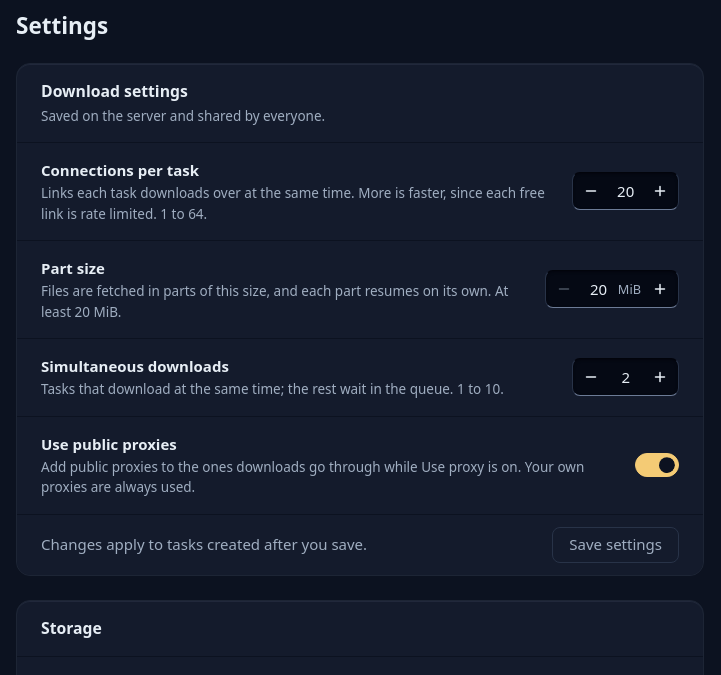
Test case: Settings › keeps an edit made while a save runs, and runs one save at a time
Click the switch named "Use public proxies" at (657, 465), box [635,453,679,477]
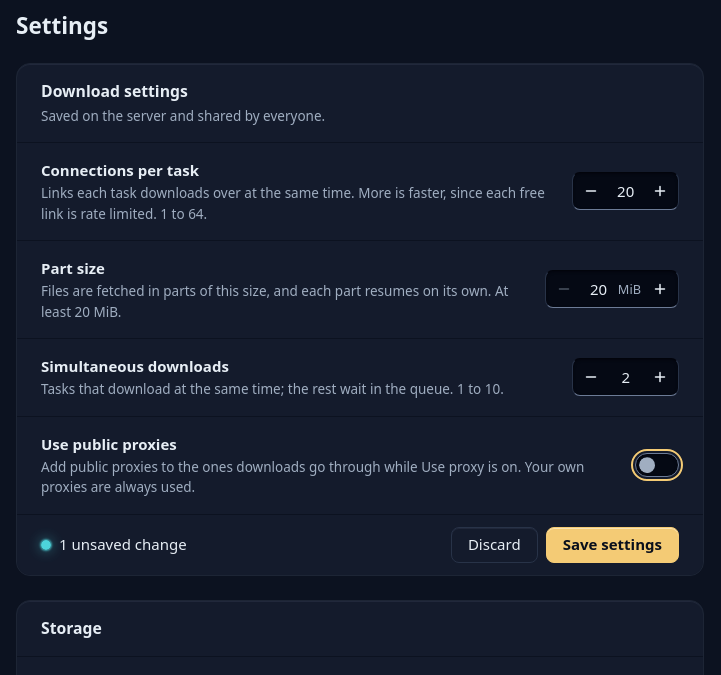
Click the button "Save settings" at (612, 545), box [546,527,679,563]
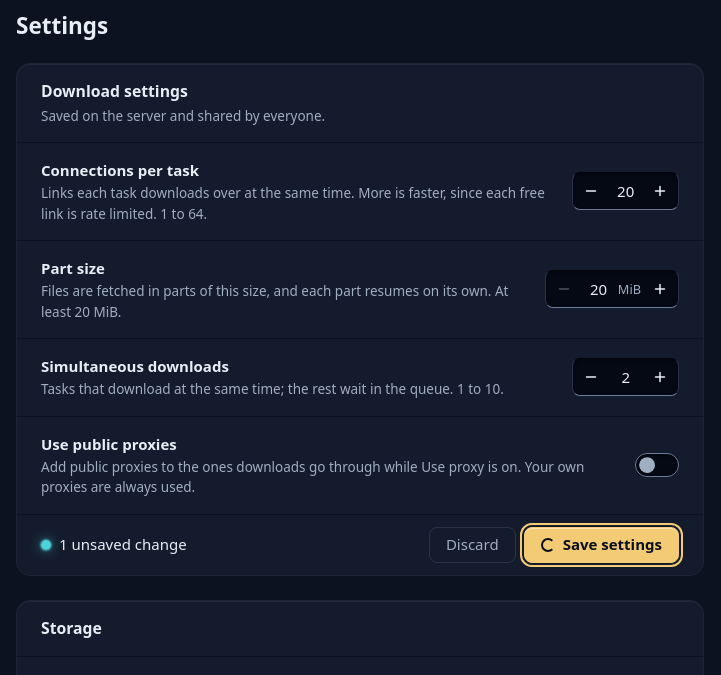
Replace the text in the number field labelled "Connections per task" with "30" at (626, 191), box [606,180,645,203]
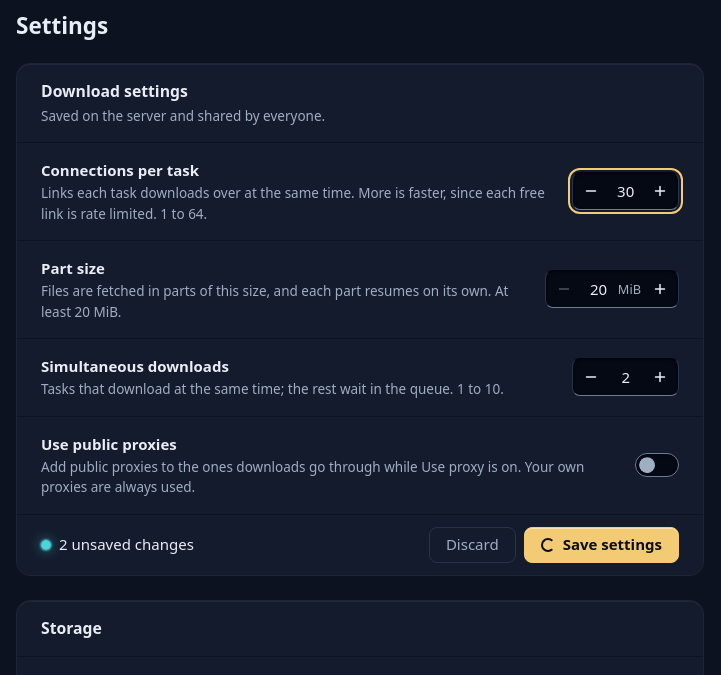
Click the button "Save settings" at (601, 545), box [524,527,679,563]
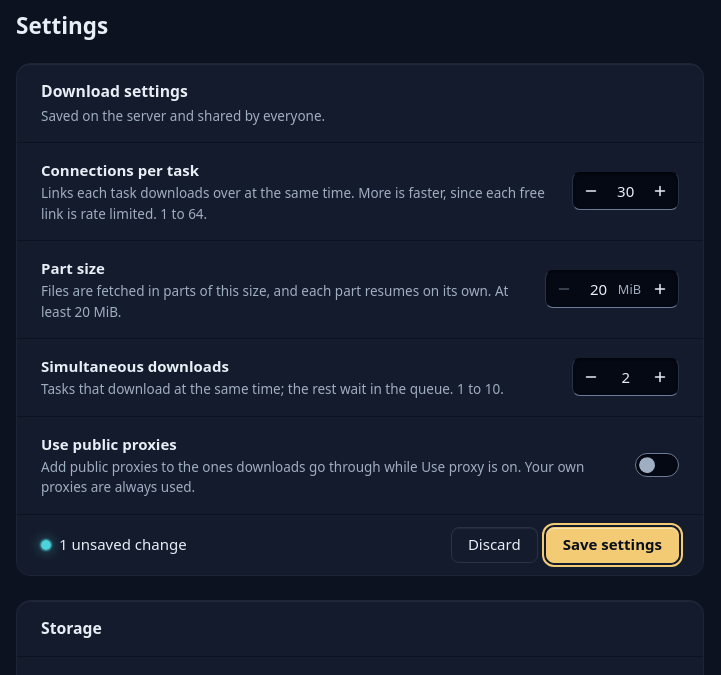
expect the text "1 unsaved change" is shown: met, box [41,533,187,556]
